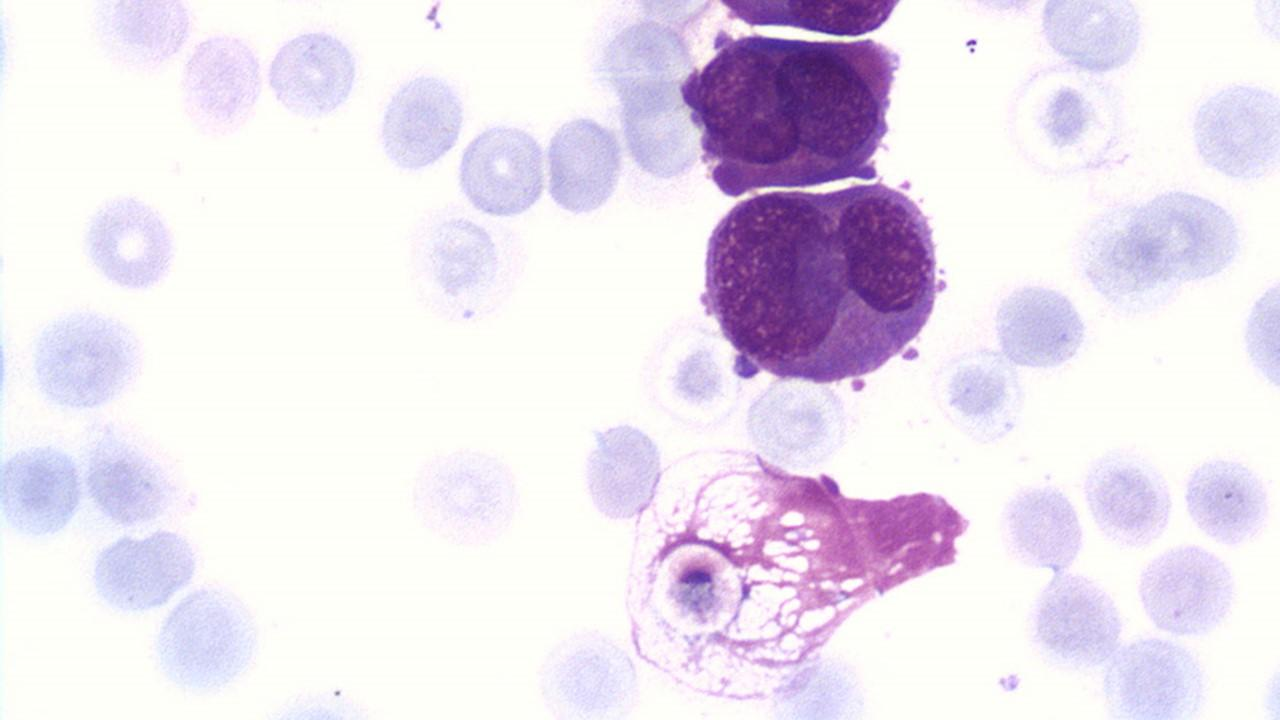Platelets: (23, 302, 151, 418), (404, 441, 527, 555), (634, 310, 738, 432), (76, 188, 185, 298), (528, 620, 646, 720), (928, 344, 1028, 450), (1179, 447, 1275, 550), (0, 3, 23, 121), (954, 0, 1046, 24), (0, 316, 18, 420), (1256, 657, 1280, 720), (992, 669, 1026, 698), (419, 2, 447, 27), (426, 10, 446, 34)
RBC: (1002, 62, 1142, 185), (403, 440, 528, 556), (638, 308, 744, 434), (524, 617, 650, 717), (1078, 438, 1178, 552), (1177, 448, 1277, 549), (454, 117, 551, 221), (541, 108, 627, 223), (0, 0, 29, 143)
WBC: (608, 439, 992, 718), (500, 0, 931, 228), (0, 316, 226, 720), (697, 169, 952, 394), (675, 16, 909, 206), (55, 406, 219, 641), (1064, 178, 1254, 326), (398, 199, 538, 334), (995, 59, 1141, 187), (148, 575, 270, 707), (19, 301, 154, 417), (403, 439, 530, 556), (73, 186, 186, 299), (81, 526, 209, 624), (370, 61, 473, 180), (987, 270, 1095, 379), (527, 620, 647, 718), (1133, 540, 1247, 643), (1181, 70, 1280, 188), (260, 21, 368, 128), (1020, 568, 1128, 674), (173, 26, 270, 144), (1080, 438, 1178, 552), (928, 345, 1032, 451), (1097, 631, 1223, 716), (574, 414, 666, 526), (1177, 448, 1277, 550), (1033, 2, 1157, 79), (2, 438, 88, 549), (993, 477, 1089, 575), (83, 3, 200, 81), (700, 1, 926, 39), (1237, 255, 1280, 414), (247, 683, 403, 719)
